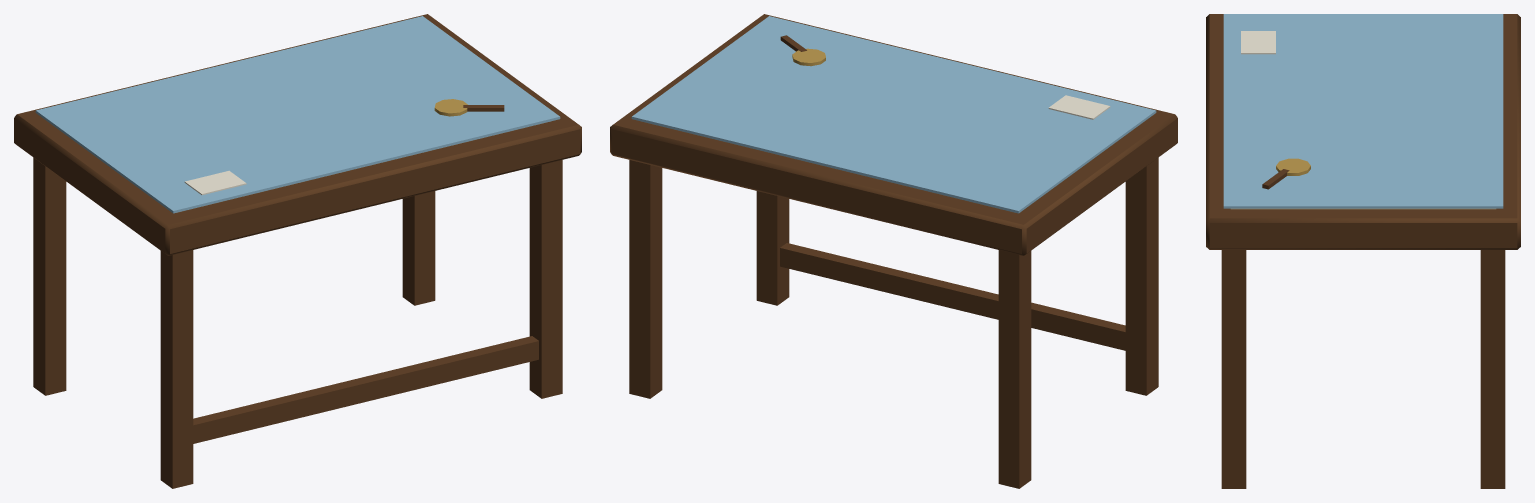
File: map_table.glb
3 views of the same model, side by side, from view 1: azimuth 30°, elevation 25°; view 2: azimuth 150°, elevation 25°; view 3: azimuth 270°, elevation 25° (orthographic).
Parts seen in each view (by area): view 1: MapTable; view 2: MapTable; view 3: MapTable.
Part boxes in pixels (left/top/right/bottom): MapTable: left=14, top=14, right=581, bottom=488; MapTable: left=610, top=14, right=1177, bottom=488; MapTable: left=1206, top=14, right=1520, bottom=488.
Bounding box in the file's own units: 1.4 × 0.901 × 0.9.
